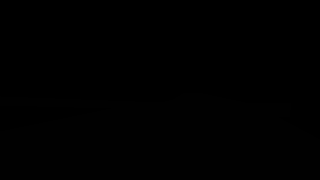go_ahead: (285, 20, 320, 56)
